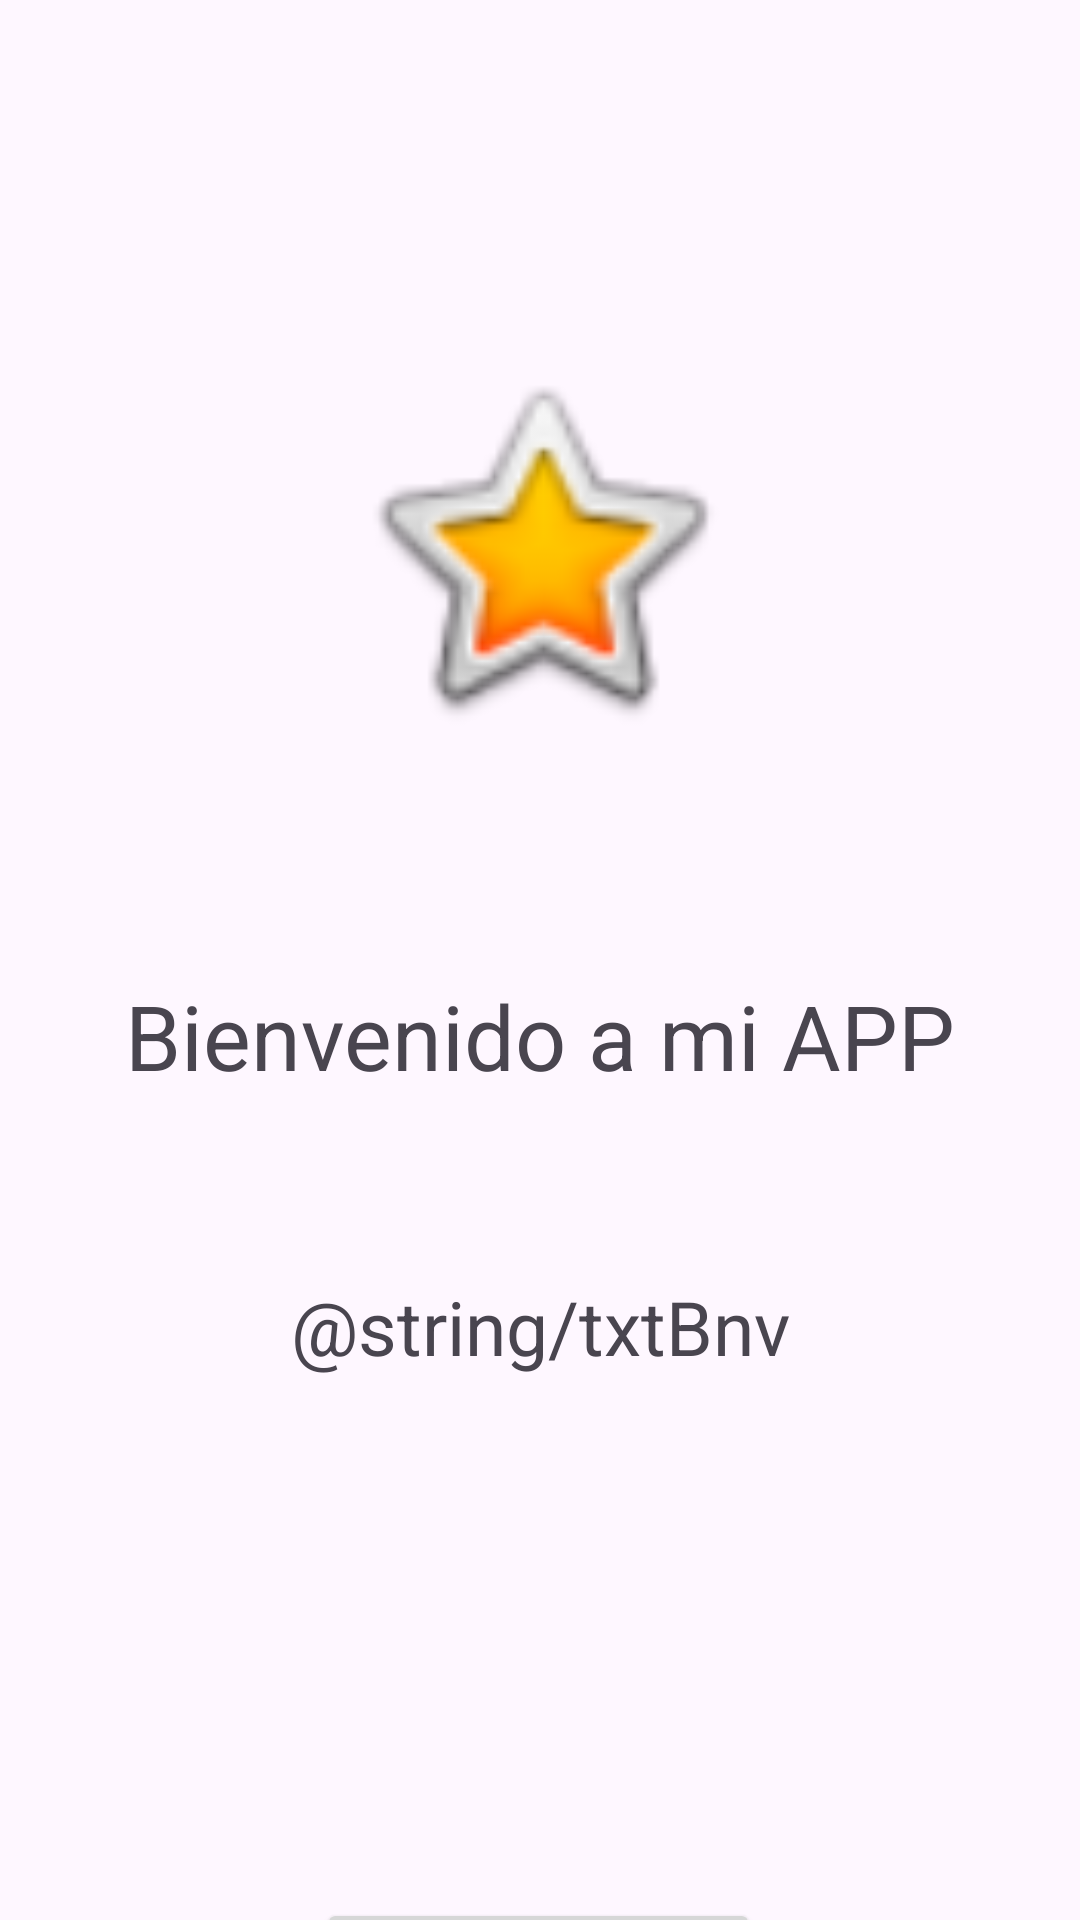

Where to tap for icons on this 1080*1920 app screen, as (x,y):
star on: (543,550)
